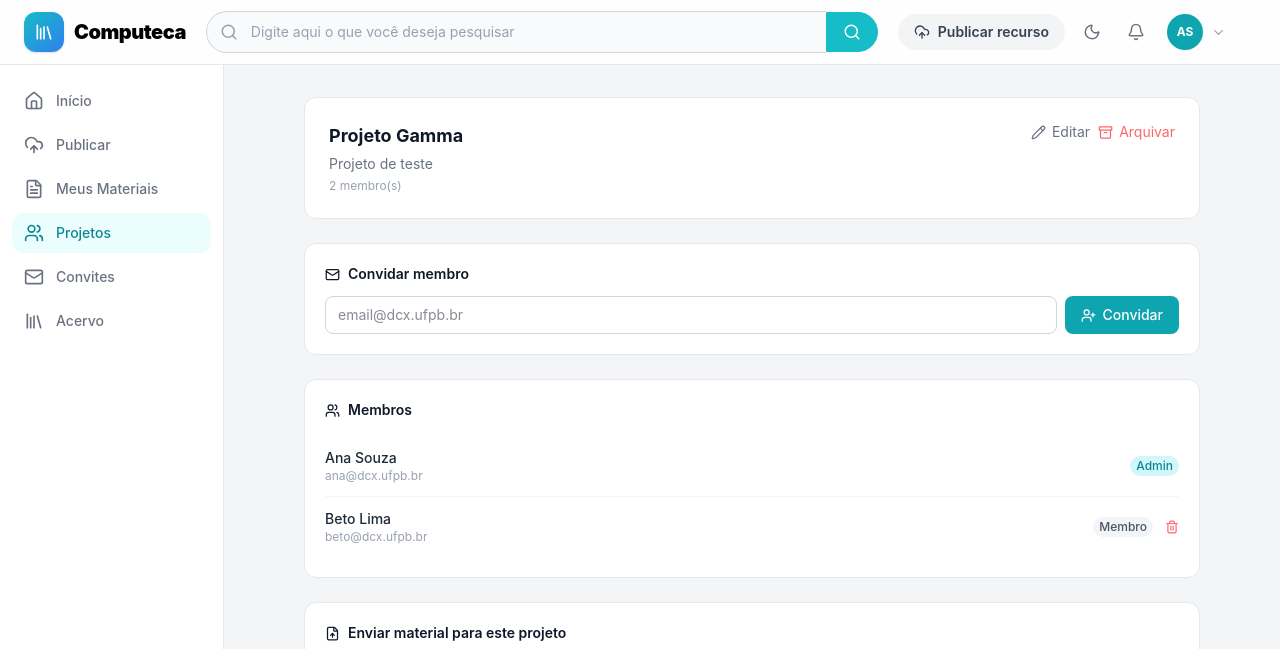
it: OrganizationDetailPage › convida um membro
This screenshot has width=1280, height=649.
Expected: the heading "Projeto Gamma" is shown, [329, 122, 463, 150]
Step 1. Type "novo@dcx.ufpb.br" into the field with placeholder "email@dcx.ufpb.br" → (691, 315), box [325, 296, 1058, 334]
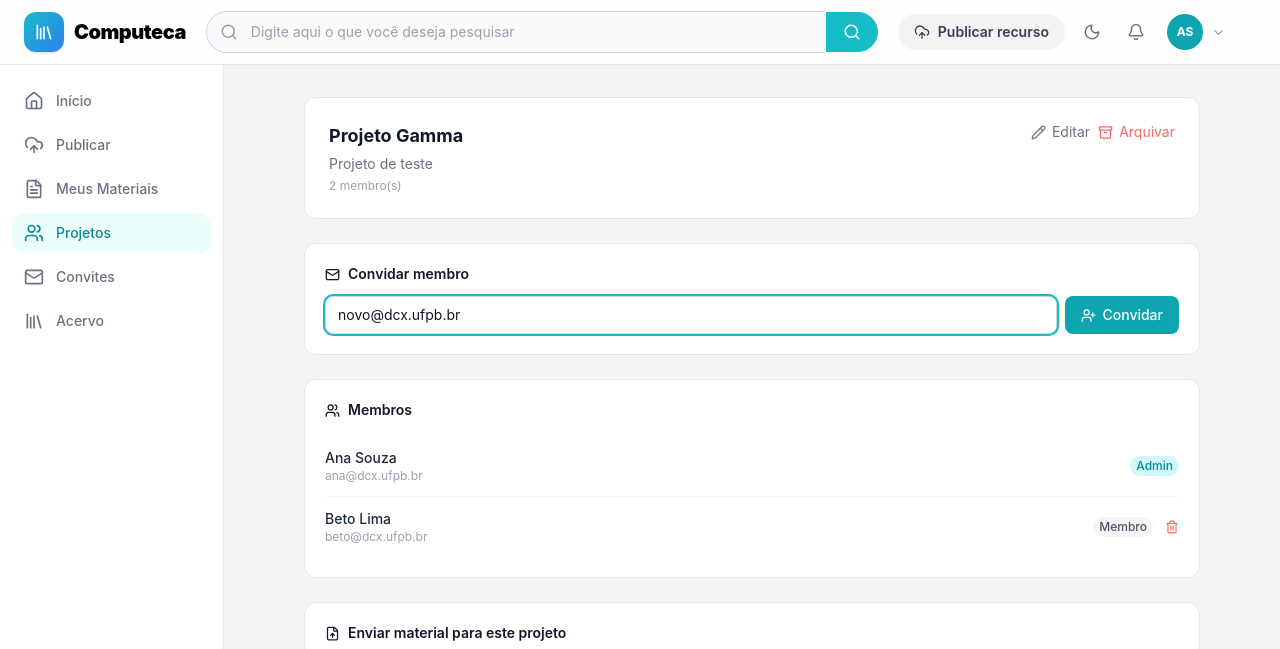
Step 2. Click the button "Convidar" → (1122, 315), box [1066, 296, 1179, 334]
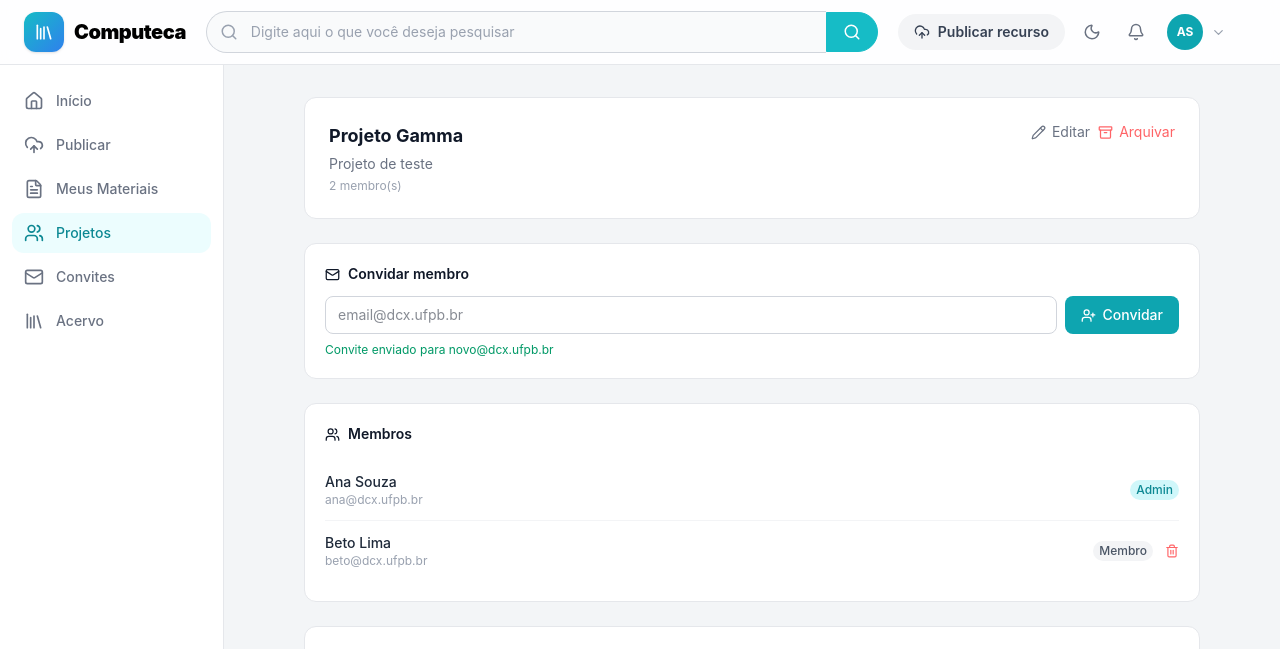
Now the text "Convite enviado para novo@dcx.ufpb.br" is shown, box [325, 342, 554, 357]
